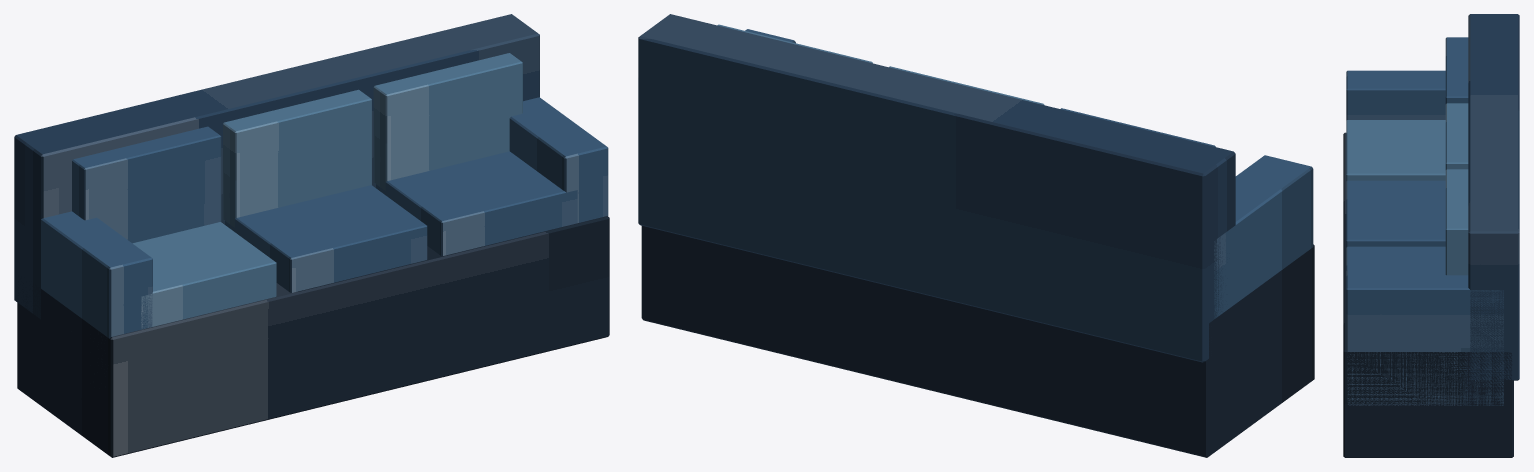
The model's file is lounge_couch_navy_wide.glb.
3 renders of one model, left to right at view 1: azimuth 30°, elevation 25°; view 2: azimuth 150°, elevation 25°; view 3: azimuth 270°, elevation 25°, orthographic. The views are drawn at different scales.
Visible parts, largest first — view 1: CouchBase, CouchBack, BackCushion_2, BackCushion_3, SeatCushion_2, BackCushion_1, SeatCushion_3, CouchArm_L, SeatCushion_1, CouchArm_R; view 2: CouchBack, CouchBase, CouchArm_L; view 3: CouchBack, CouchBase, CouchArm_R, SeatCushion_2, SeatCushion_1, CouchArm_L, BackCushion_3, SeatCushion_3, BackCushion_1, BackCushion_2.
Boxes of the visible parts, x1=… form: CouchBase: x1=17, y1=216, x2=609, y2=457; CouchBack: x1=14, y1=14, x2=539, y2=319; BackCushion_2: x1=223, y1=89, x2=371, y2=227; BackCushion_3: x1=373, y1=53, x2=522, y2=190; SeatCushion_2: x1=225, y1=185, x2=427, y2=292; BackCushion_1: x1=72, y1=126, x2=221, y2=243; SeatCushion_3: x1=376, y1=151, x2=577, y2=255; CouchArm_L: x1=41, y1=211, x2=152, y2=338; SeatCushion_1: x1=132, y1=222, x2=276, y2=328; CouchArm_R: x1=509, y1=97, x2=608, y2=222; CouchBack: x1=638, y1=14, x2=1235, y2=362; CouchBase: x1=641, y1=226, x2=1314, y2=457; CouchArm_L: x1=1214, y1=155, x2=1313, y2=318; CouchBack: x1=1468, y1=14, x2=1519, y2=380; CouchBase: x1=1343, y1=132, x2=1513, y2=457; CouchArm_R: x1=1346, y1=270, x2=1503, y2=405; SeatCushion_2: x1=1346, y1=180, x2=1445, y2=247; SeatCushion_1: x1=1346, y1=120, x2=1445, y2=180; CouchArm_L: x1=1346, y1=70, x2=1445, y2=120; BackCushion_3: x1=1445, y1=169, x2=1468, y2=275; SeatCushion_3: x1=1346, y1=246, x2=1445, y2=270; BackCushion_1: x1=1445, y1=37, x2=1468, y2=103; BackCushion_2: x1=1445, y1=103, x2=1468, y2=169.
Size of the model in its own units: 1.82 by 0.91 by 0.62.
1 material, 1 textured.
